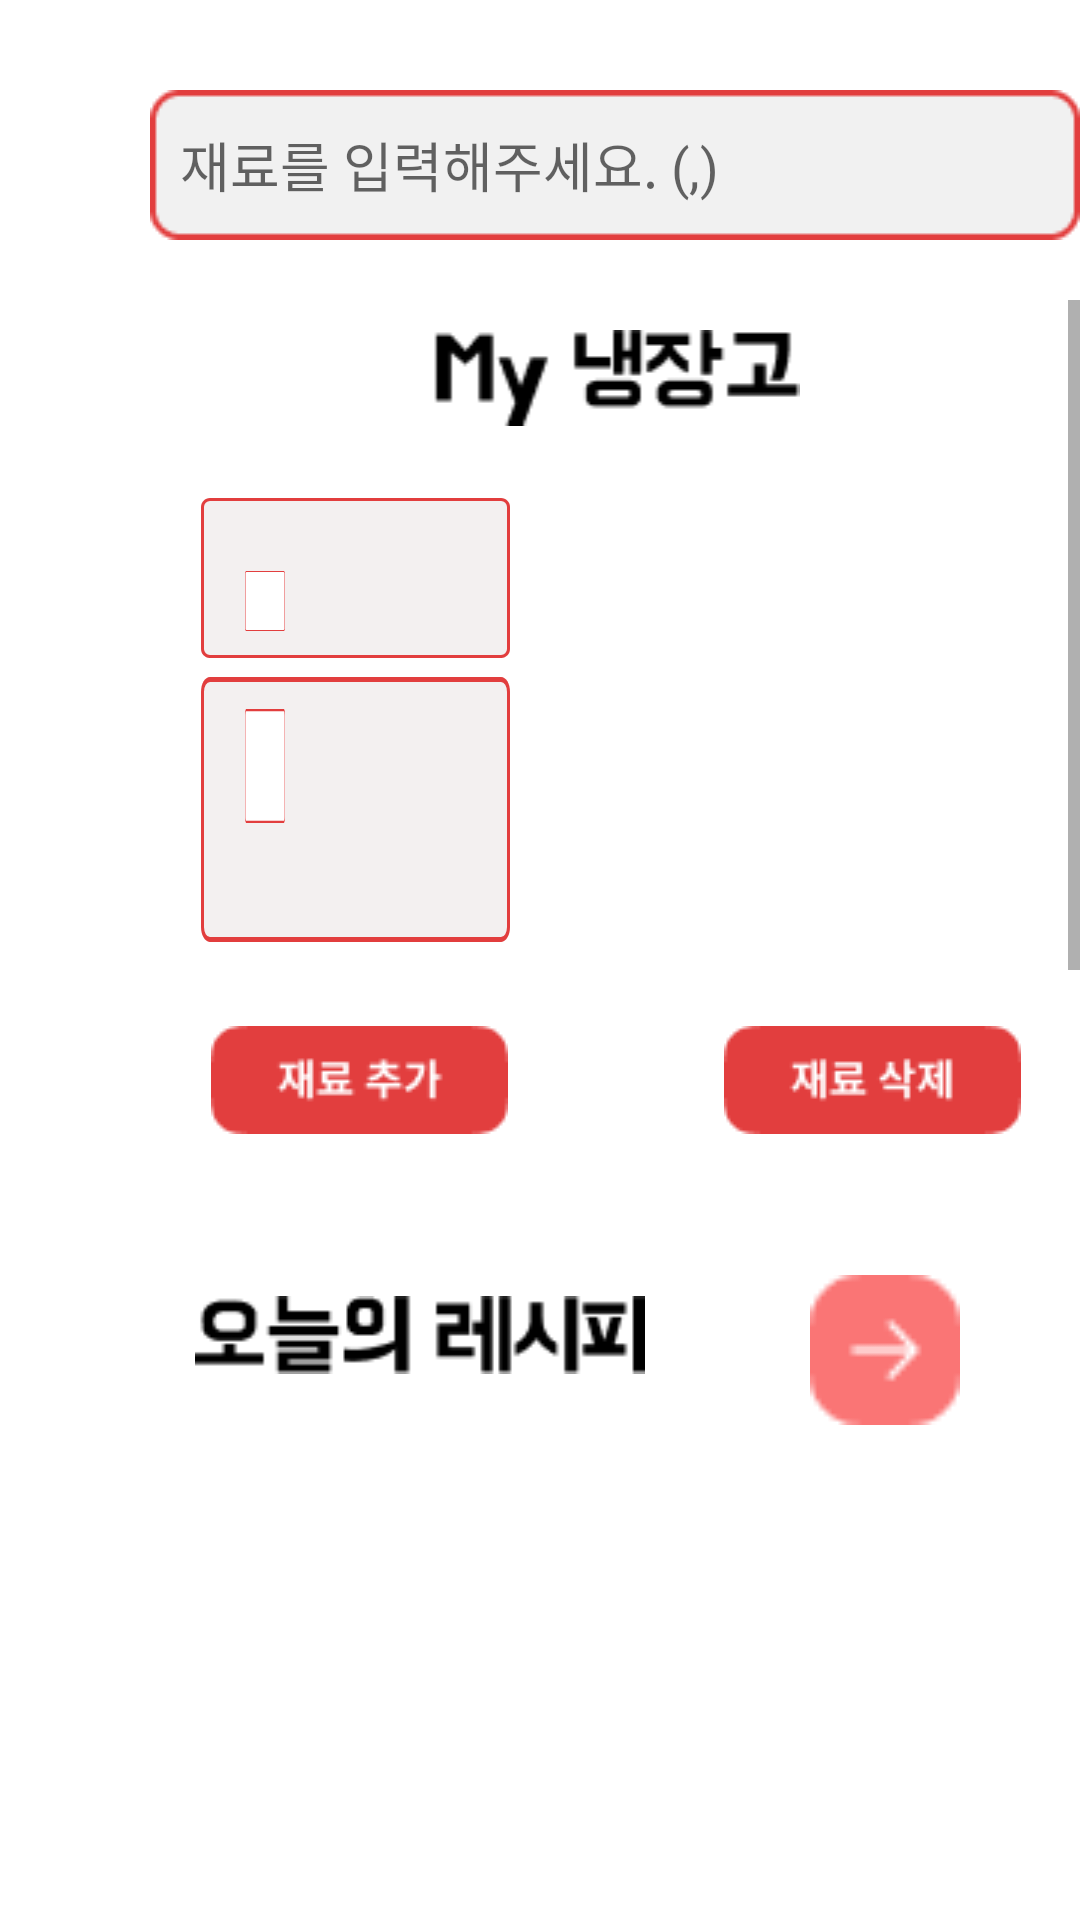

Where to tap for icons on this 1080x1920 app screen, as [x,y]:
click: [885,1350]
